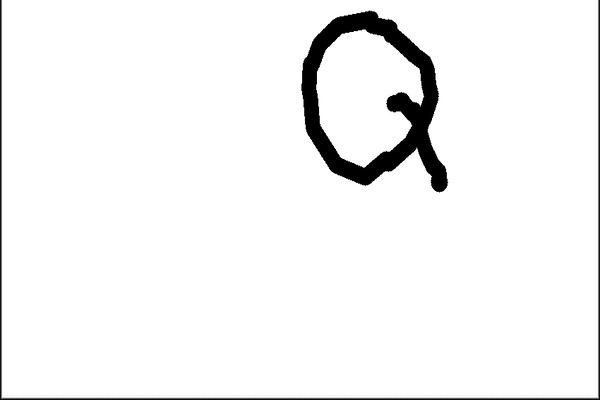Q: (287, 2, 453, 197)
